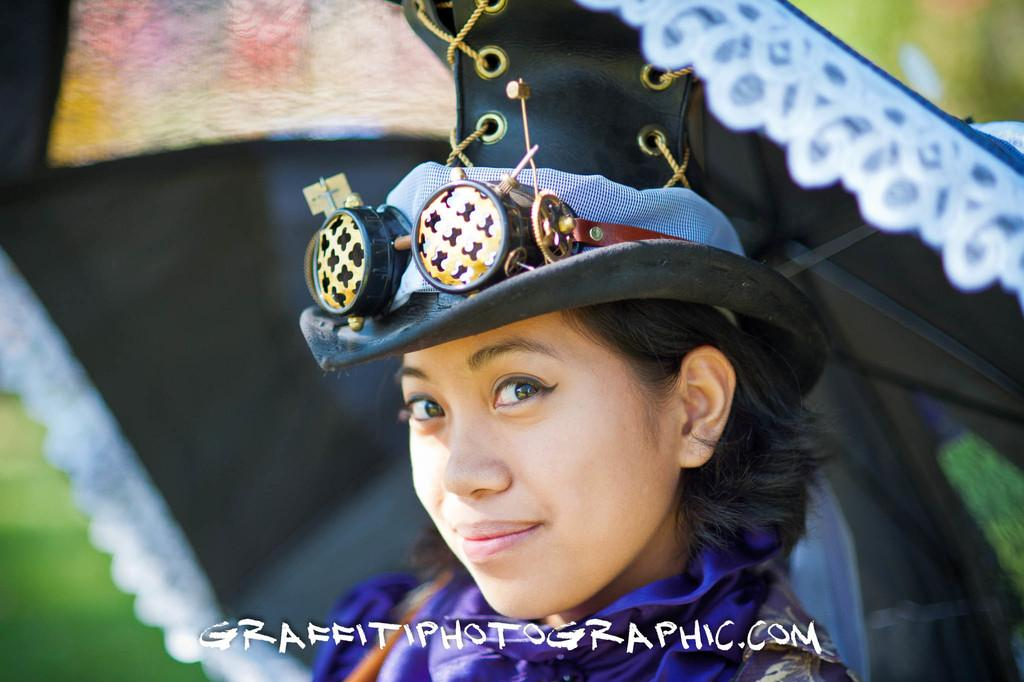Hat: (300, 0, 1022, 471)
